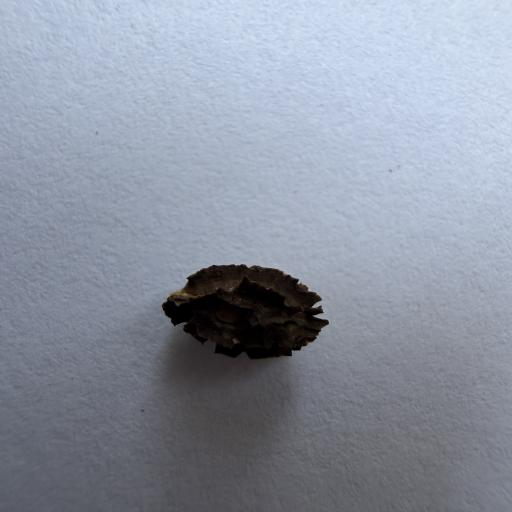papaya_seed: (146, 229, 368, 393)
